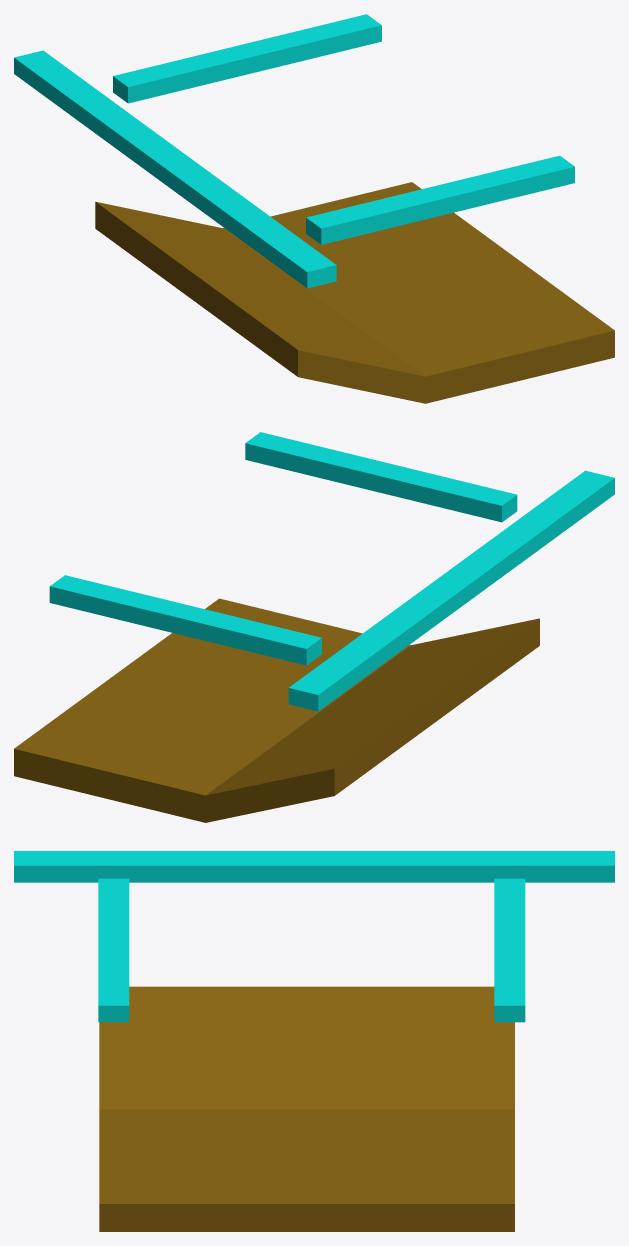
File: Environment_Attachment_Balcony_A.fbx
3 renders of one model, top to bottom at view 1: azimuth 30°, elevation 25°; view 2: azimuth 150°, elevation 25°; view 3: azimuth 270°, elevation 25°, orthographic. The views are drawn at different scales.
Visible parts, largest first — view 1: Environment_Attachment_Balcony_A; view 2: Environment_Attachment_Balcony_A; view 3: Environment_Attachment_Balcony_A.
Boxes of the visible parts, x1,y1,x2,y2 form: Environment_Attachment_Balcony_A: [14, 14, 614, 403]; Environment_Attachment_Balcony_A: [14, 432, 614, 822]; Environment_Attachment_Balcony_A: [14, 851, 614, 1231].
Size of the model in its own units: 1.3 by 0.7143 by 1.89.
